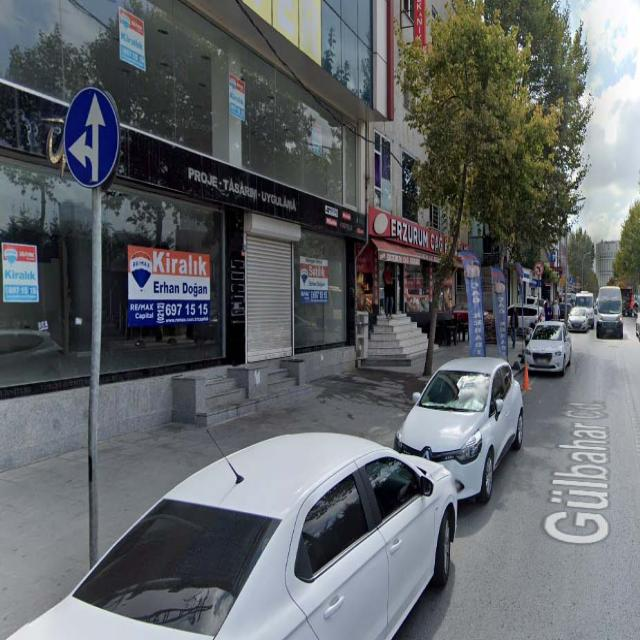ilerisol: (64, 88, 121, 190)
soladonulmez: (534, 262, 543, 277)
